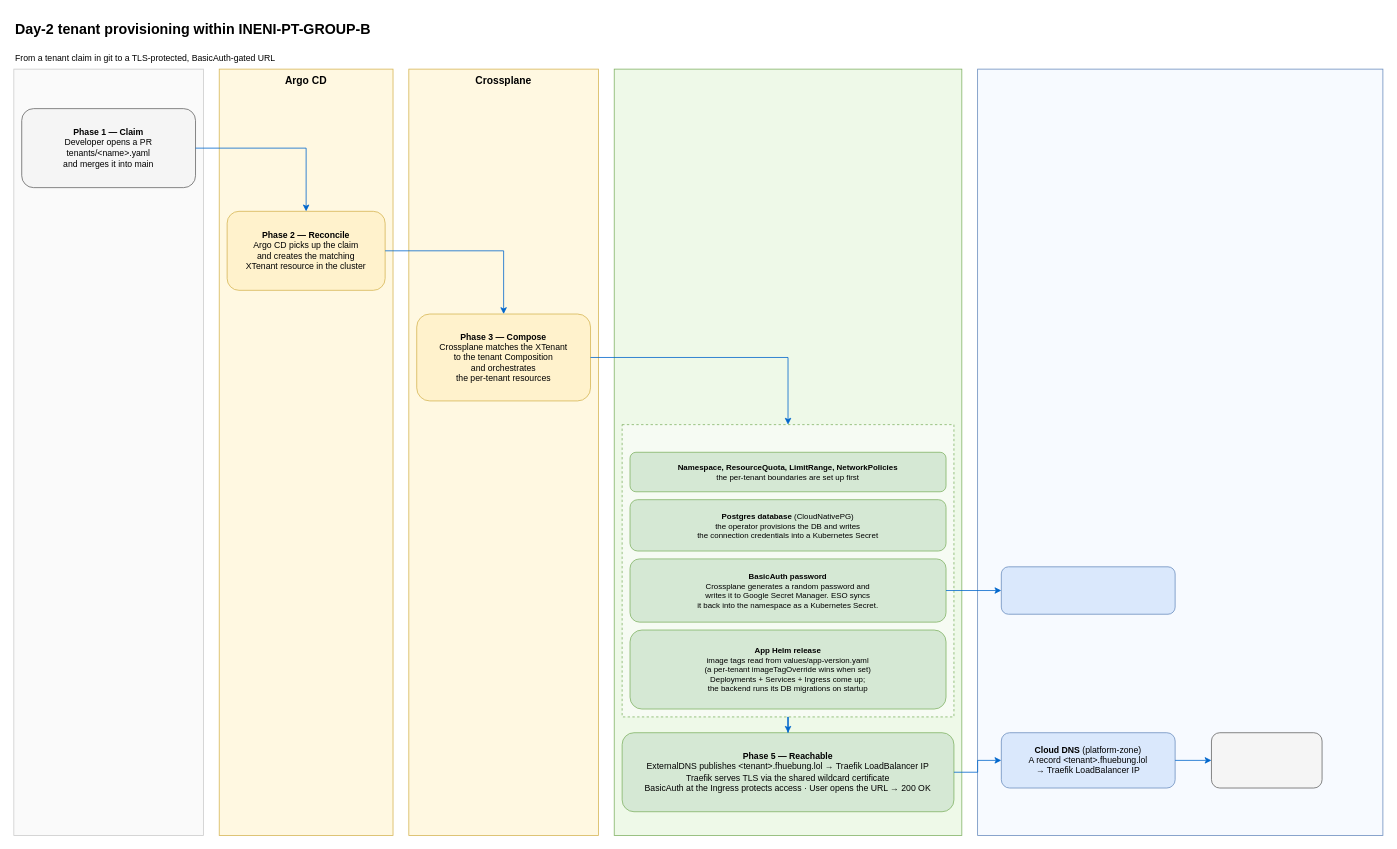
Some shapes in this 1397 by 849 pixel diagram are drawn without their labels. Here are the shapes that lost their labels. From the top down, the box of each, then its label:
(13, 68, 203, 835): Developer / platform-gitops
(613, 68, 962, 835): Tenant namespace: tenant-<name>
(977, 68, 1383, 835): External: GCP Secret Manager, Cloud DNS, User
(621, 424, 954, 717): Phase 4 — Tenant resources come up
(1001, 566, 1175, 614): Google Secret Manager tenant-<name>/basicauth-htpasswd
(1211, 732, 1322, 788): User browser HTTPS GET (BasicAuth → 200)
